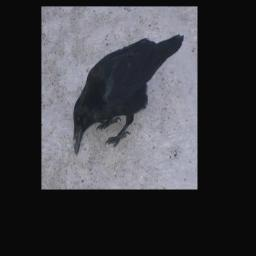Crow: (74, 34, 186, 154)
